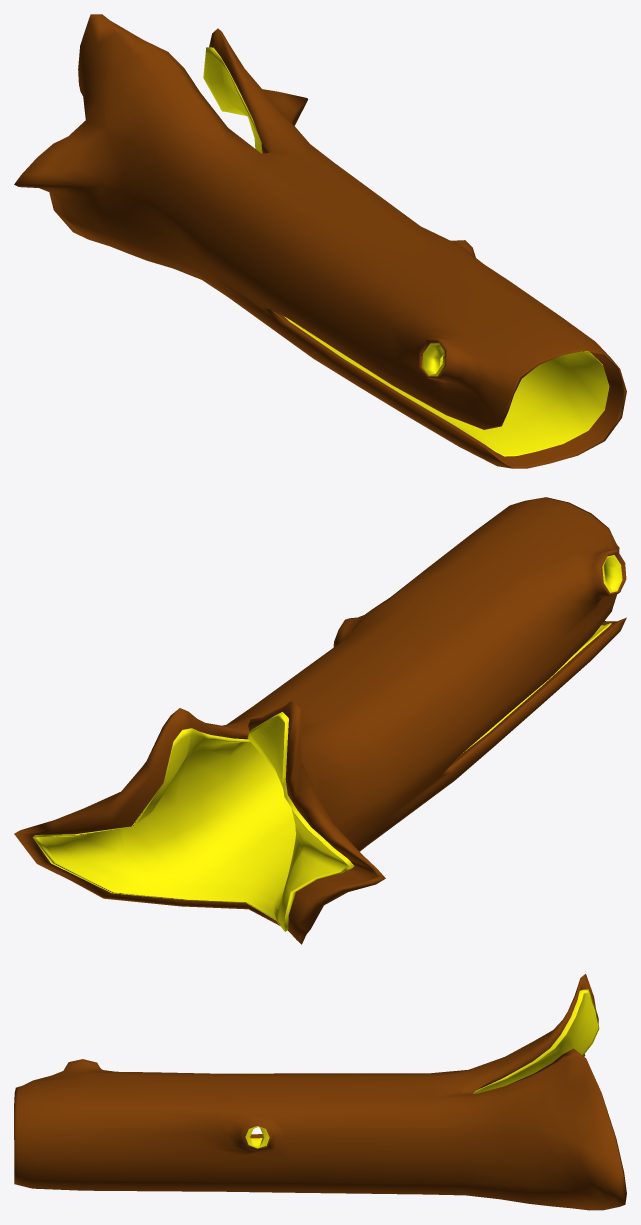
File: hollowTree.fbx
The picture shows the model from 3 angles, top to bottom: view 1: azimuth 30°, elevation 25°; view 2: azimuth 150°, elevation 25°; view 3: azimuth 270°, elevation 25°; orthographic projection. The views are drawn at different scales.
Visible parts, largest first — view 1: Cube_LOD0; view 2: Cube_LOD0; view 3: Cube_LOD0.
Boxes of the visible parts, x1,y1,x2,y2 form: Cube_LOD0: (14,14,626,468); Cube_LOD0: (14,497,626,944); Cube_LOD0: (14,974,626,1210).
Size of what is drawn, in the model's own units: 924 by 634 by 1936.
